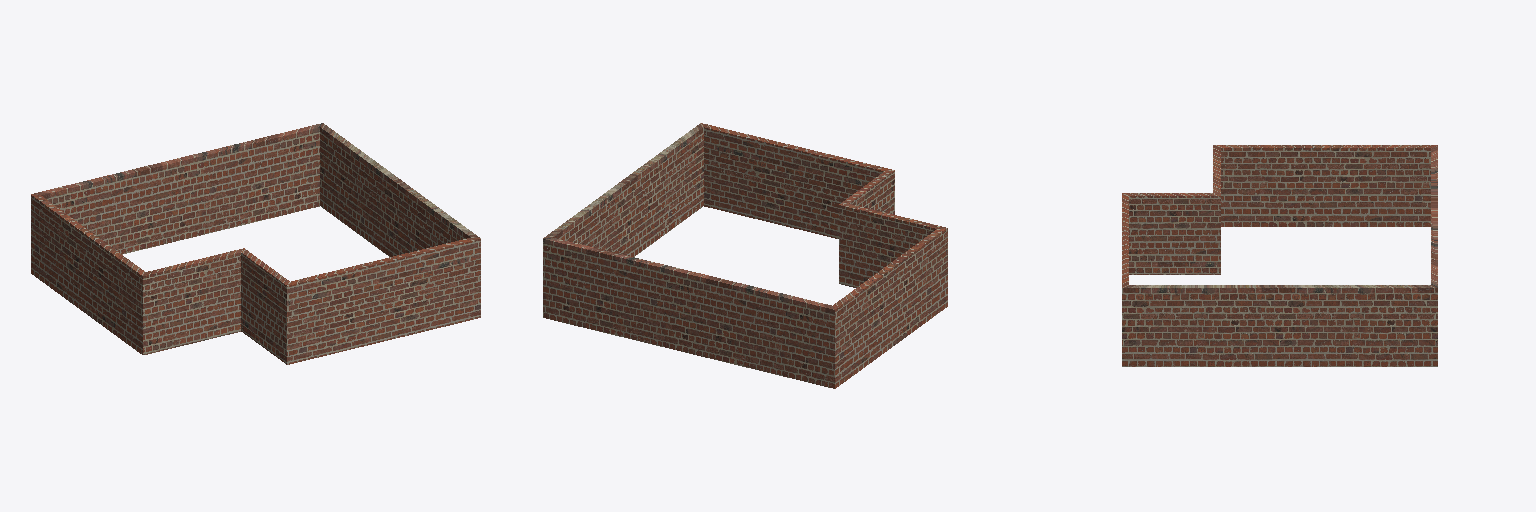
3 views of the same model, side by side, from view 1: azimuth 30°, elevation 25°; view 2: azimuth 150°, elevation 25°; view 3: azimuth 270°, elevation 25° (orthographic).
Visible parts, largest first — view 1: Plane; view 2: Plane; view 3: Plane.
Boxes of the visible parts, x1,y1,x2,y2 form: Plane: [31, 123, 480, 364]; Plane: [543, 123, 947, 388]; Plane: [1122, 145, 1437, 366].
Size of the model in its own units: 15.49 by 4 by 14.51.
2 materials, 1 textured.